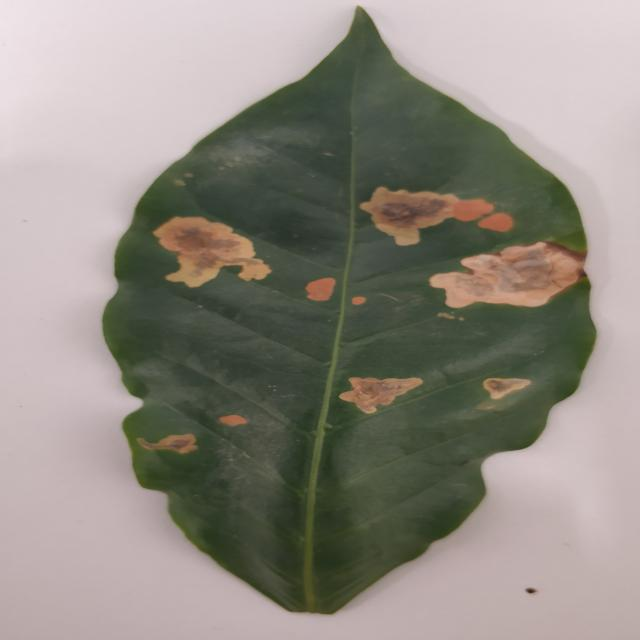Plaga-Minador: (100, 7, 598, 617)
